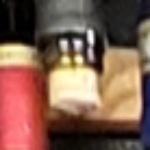bottle: (29, 31, 112, 126)
